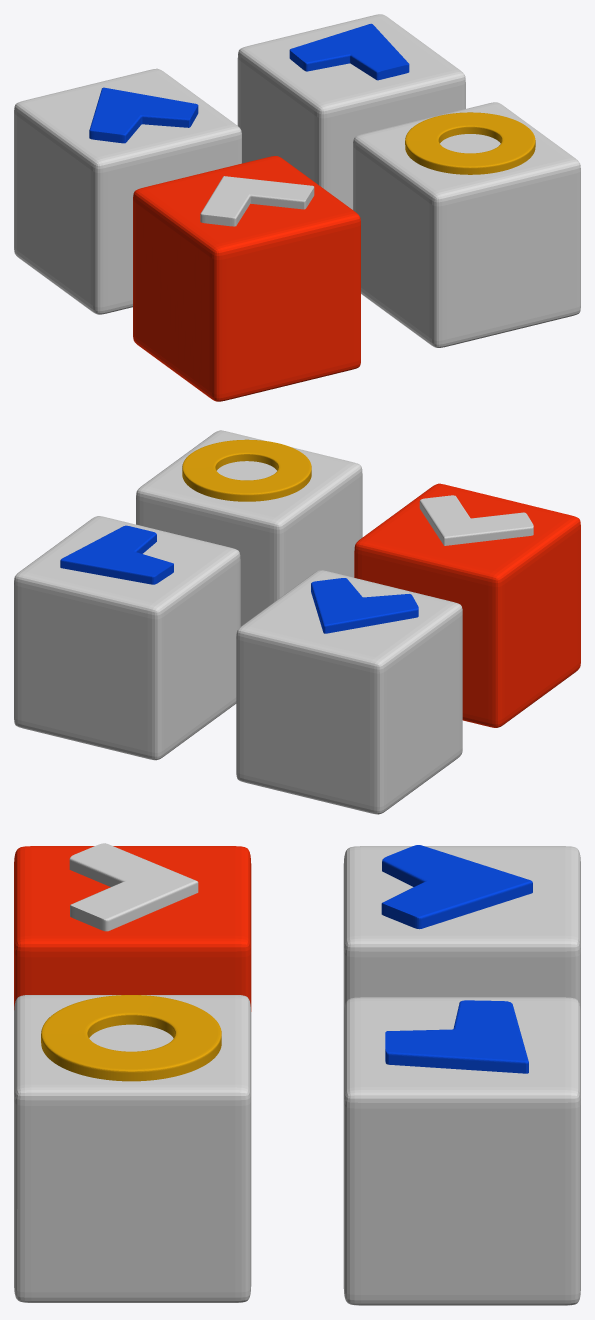
The model's file is AssestGameJam.fbx.
The picture shows the model from 3 angles, top to bottom: view 1: azimuth 30°, elevation 25°; view 2: azimuth 150°, elevation 25°; view 3: azimuth 270°, elevation 25°; orthographic projection. The views are drawn at different scales.
Visible parts, largest first — view 1: Cube, Cube.001, Cube.009, Cube.010, Torus, Cube.003, Cube.002, Cube.008; view 2: Cube.009, Cube.010, Cube, Cube.001, Torus, Cube.003, Cube.002, Cube.008; view 3: Cube.010, Cube.001, Cube, Cube.009, Torus, Cube.002, Cube.003, Cube.008.
Boxes of the visible parts, x1,y1,x2,y2 form: Cube: (133,156,360,401); Cube.001: (353,102,580,347); Cube.009: (14,68,241,314); Cube.010: (237,14,465,209); Torus: (405,112,535,174); Cube.003: (289,23,409,80); Cube.002: (89,87,198,143); Cube.008: (200,176,314,226); Cube.009: (236,570,462,814); Cube.010: (14,516,240,760); Cube: (354,483,580,727); Cube.001: (136,430,362,626); Torus: (182,439,311,501); Cube.003: (60,525,173,584); Cube.002: (311,578,418,633); Cube.008: (419,495,533,545); Cube.010: (343,997,580,1305); Cube.001: (14,995,251,1302); Cube: (14,846,251,1011); Cube.009: (343,846,580,1014); Torus: (41,995,221,1081); Cube.002: (381,845,532,929); Cube.003: (385,1000,528,1073); Cube.008: (69,843,198,931).
Size of what is drawn, in the model's own units: 502 by 211 by 478.
